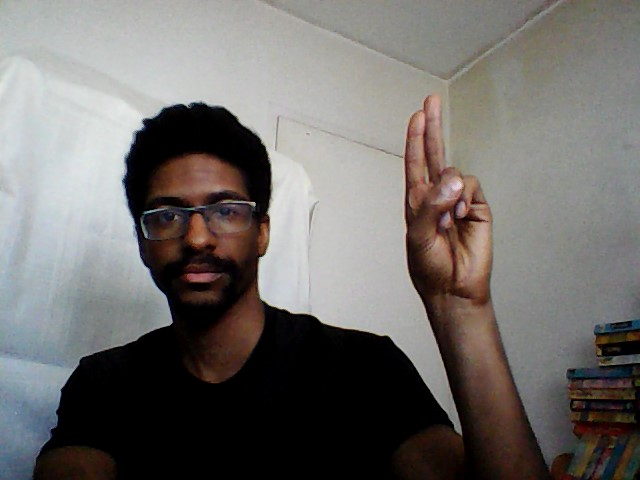u: (395, 86, 499, 305)
